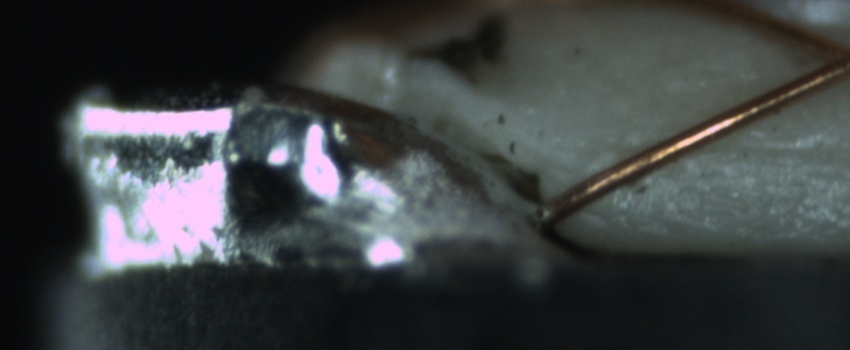CL: (796, 24, 850, 92)
DL: (683, 122, 849, 186)
